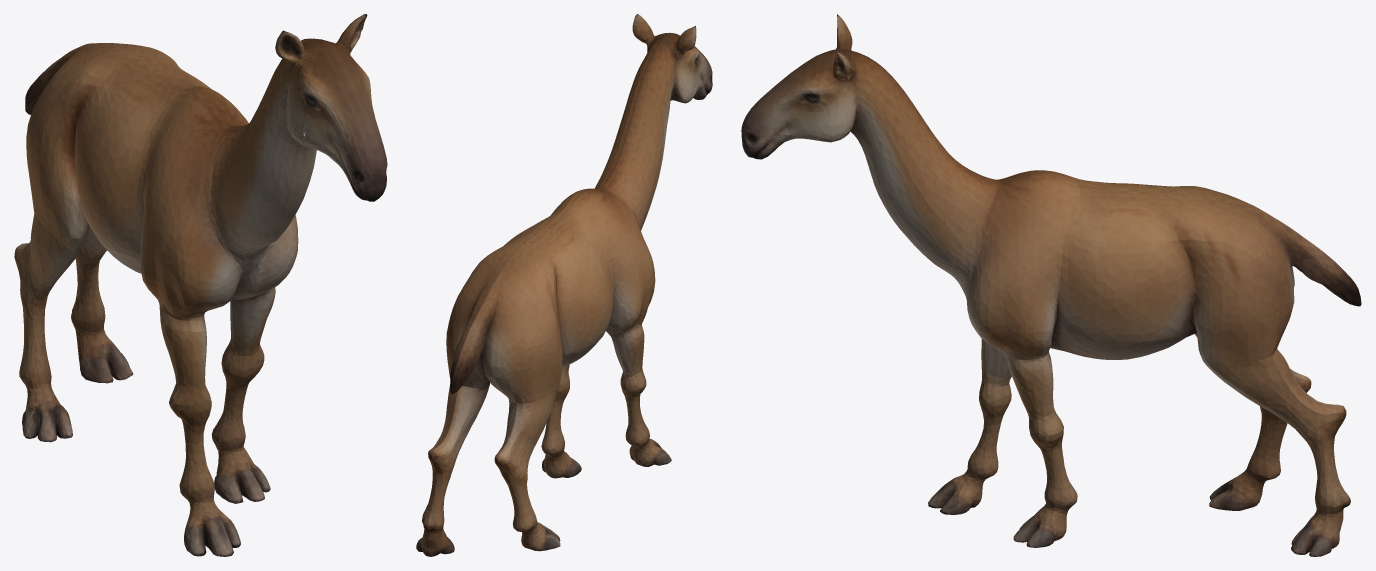
The picture shows the model from 3 angles, left to right: view 1: azimuth 30°, elevation 25°; view 2: azimuth 150°, elevation 25°; view 3: azimuth 270°, elevation 25°; orthographic projection. The views are drawn at different scales.
Visible parts, largest first — view 1: world; view 2: world; view 3: world.
Boxes of the visible parts, box(x1,y1,x2,y2) form: world: box(14, 14, 387, 556); world: box(416, 14, 712, 556); world: box(741, 14, 1361, 556).
Size of the model in its own units: 0.2475 by 0.8775 by 1.
Materials: 1 (1 with a texture image).
